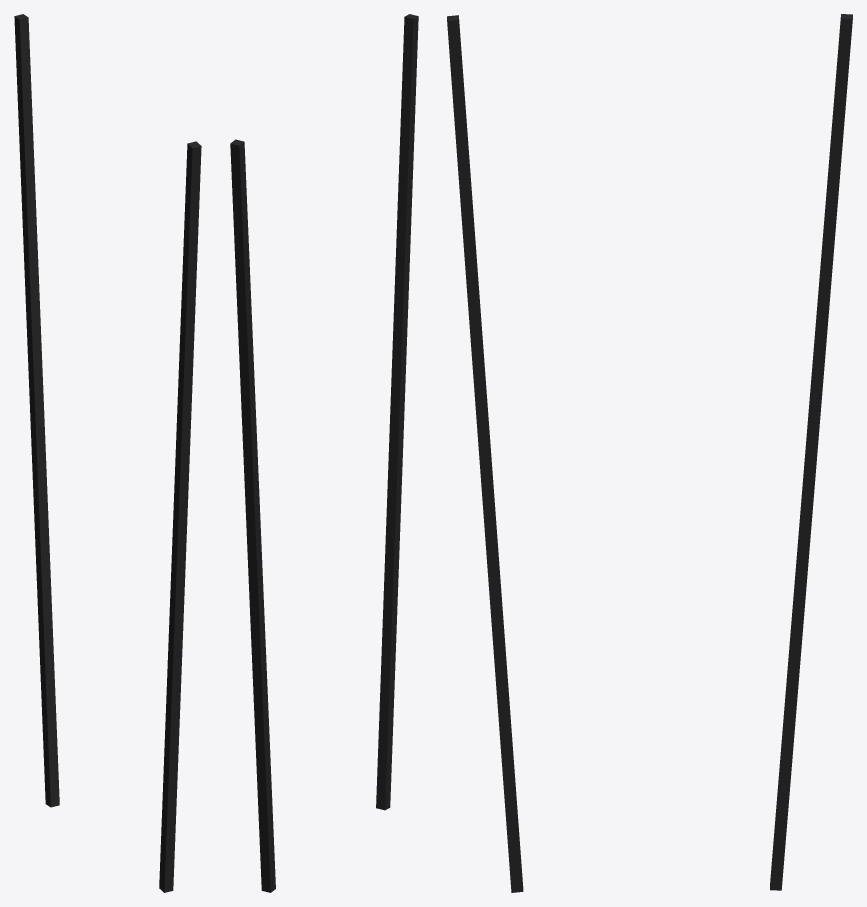
File: wall_window_sbarre_3LV.fbx
3 views of the same model, side by side, from view 1: azimuth 30°, elevation 25°; view 2: azimuth 150°, elevation 25°; view 3: azimuth 270°, elevation 25° (orthographic). The views are drawn at different scales.
Parts seen in each view (by area): view 1: polySurface6; view 2: polySurface6; view 3: polySurface6.
Boxes of the visible parts, x1,y1,x2,y2 form: polySurface6: (14, 14, 201, 892); polySurface6: (230, 14, 418, 892); polySurface6: (447, 14, 852, 892).
Bounding box in the file's own units: 10.01 × 818 × 344.
